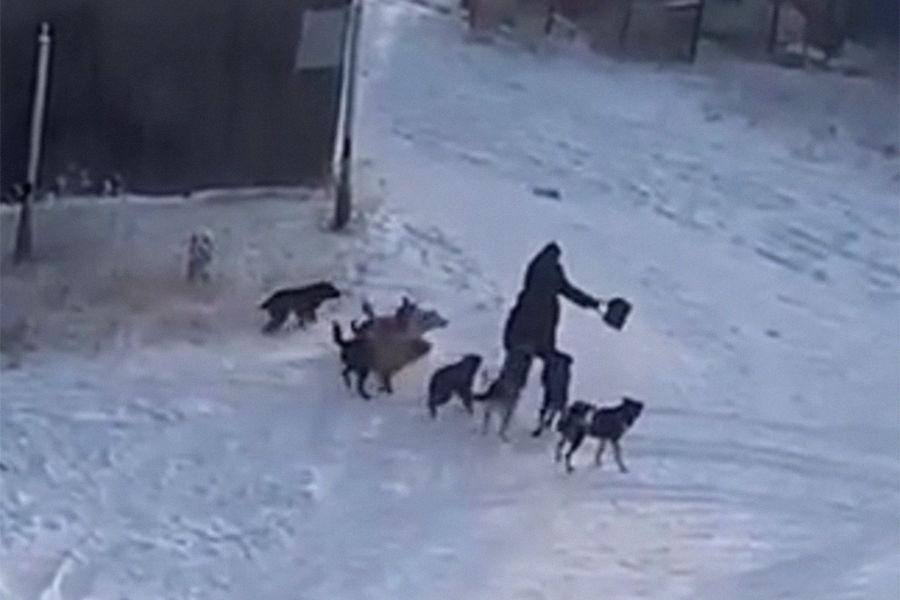dog_aggressive: (342, 308, 441, 386)
normal_dogs: (549, 394, 652, 479), (474, 344, 530, 455), (257, 279, 345, 333), (426, 352, 489, 420)
